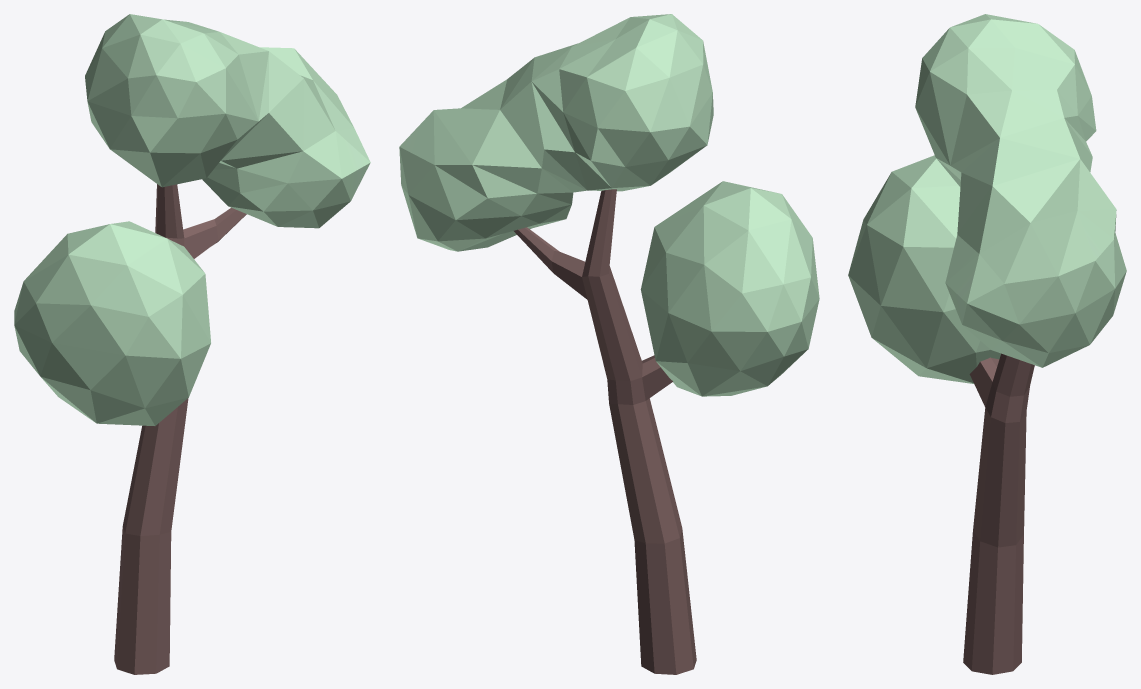
Rendered from SM_tree1.fbx.
3 views of the same model, side by side, from view 1: azimuth 30°, elevation 25°; view 2: azimuth 150°, elevation 25°; view 3: azimuth 270°, elevation 25° (orthographic). The views are drawn at different scales.
Visible parts, largest first — view 1: SM_tree1; view 2: SM_tree1; view 3: SM_tree1.
Part boxes in pixels (<box>): SM_tree1: <box>14,14,370,674</box>; SM_tree1: <box>399,14,819,674</box>; SM_tree1: <box>848,14,1126,674</box>.
Size of the model in its own units: 304 by 516 by 199.
Materials: 1 (1 with a texture image).
